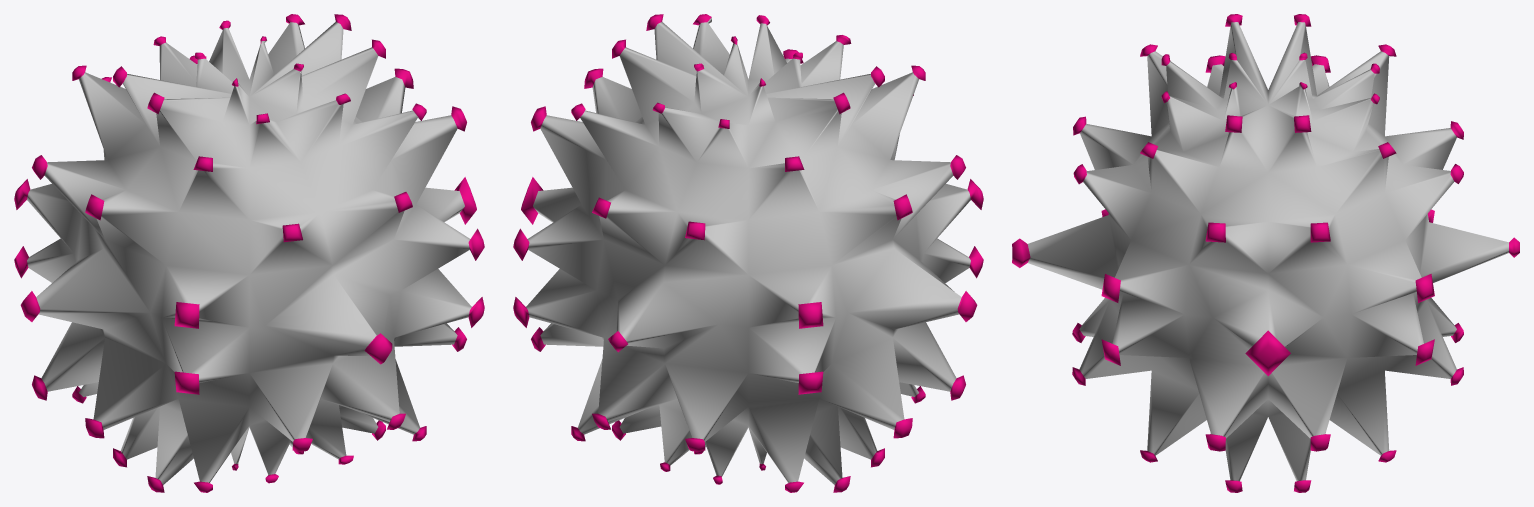
File: virus.fbx
3 renders of one model, left to right at view 1: azimuth 30°, elevation 25°; view 2: azimuth 150°, elevation 25°; view 3: azimuth 270°, elevation 25°, orthographic. The views are drawn at different scales.
Parts seen in each view (by area): view 1: virus; view 2: virus; view 3: virus.
Boxes of the visible parts, box(x1,y1,x2,y2) form: virus: box(14, 14, 484, 492); virus: box(513, 14, 983, 492); virus: box(1012, 14, 1519, 492).
Size of the model in its own units: 2.93 by 2.49 by 3.05.
